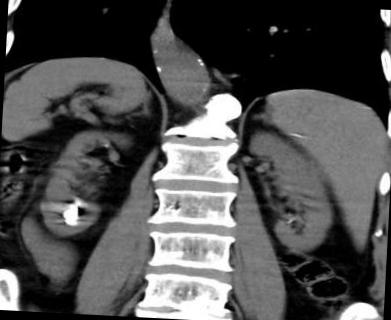Tas_Var: (61, 204, 80, 220), (63, 220, 80, 227), (286, 217, 296, 226), (100, 142, 110, 150), (74, 201, 82, 206)
